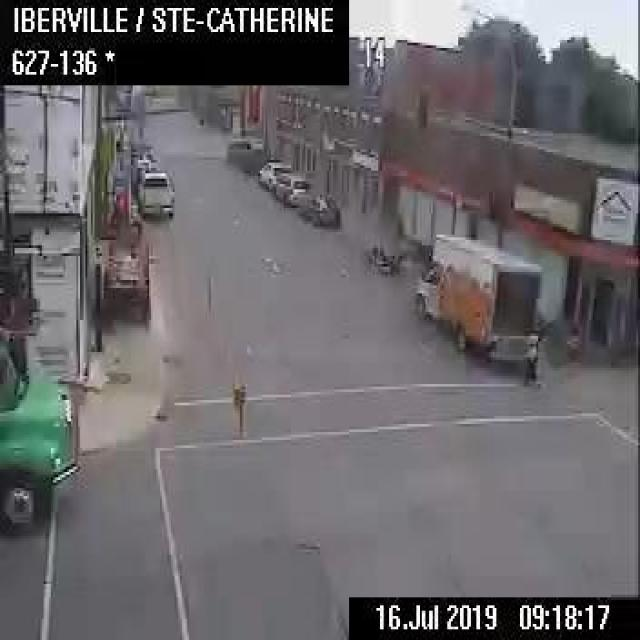construction: (98, 222, 149, 326), (231, 381, 244, 432)
pedestrian: (520, 328, 540, 384)
vehicle: (0, 312, 80, 536), (414, 231, 541, 361), (136, 171, 174, 216), (272, 171, 310, 204), (362, 243, 400, 276), (309, 191, 339, 227), (257, 159, 291, 190)
